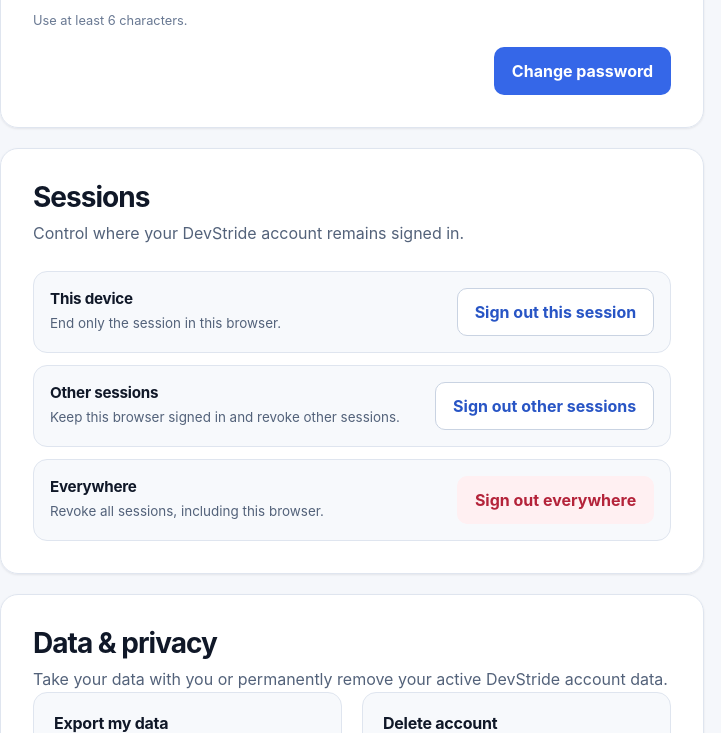
AccountSettings › confirms and signs out other sessions while retaining this one
This screenshot has width=721, height=733.
(page scrolled)
Step 1. Click the button "Sign out other sessions" → (545, 406), box [435,382,654,430]
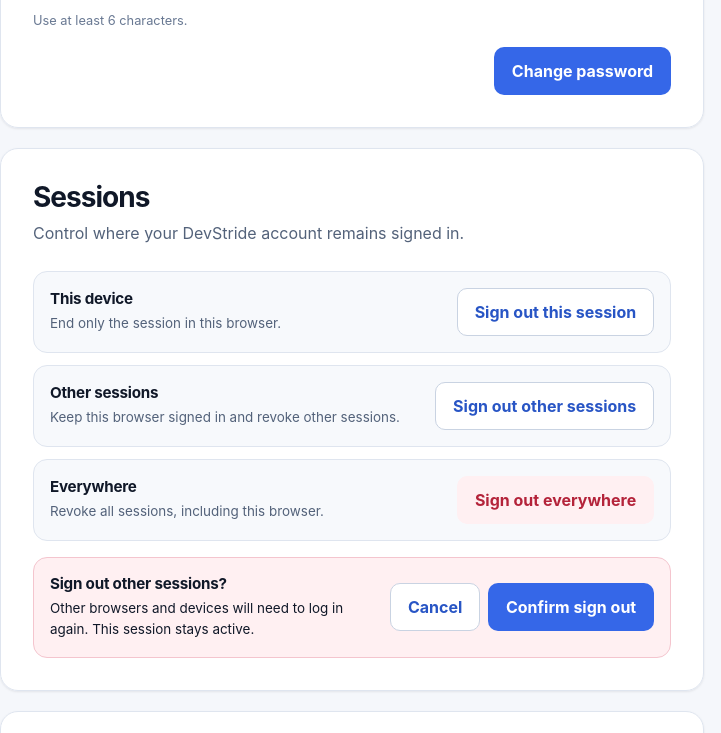
Expected: the text "Other browsers and devices will need to log in again. This session stays active." is shown, [50,598,370,641]
Step 2. Click the button "Confirm sign out" → (571, 607), box [488,583,654,631]
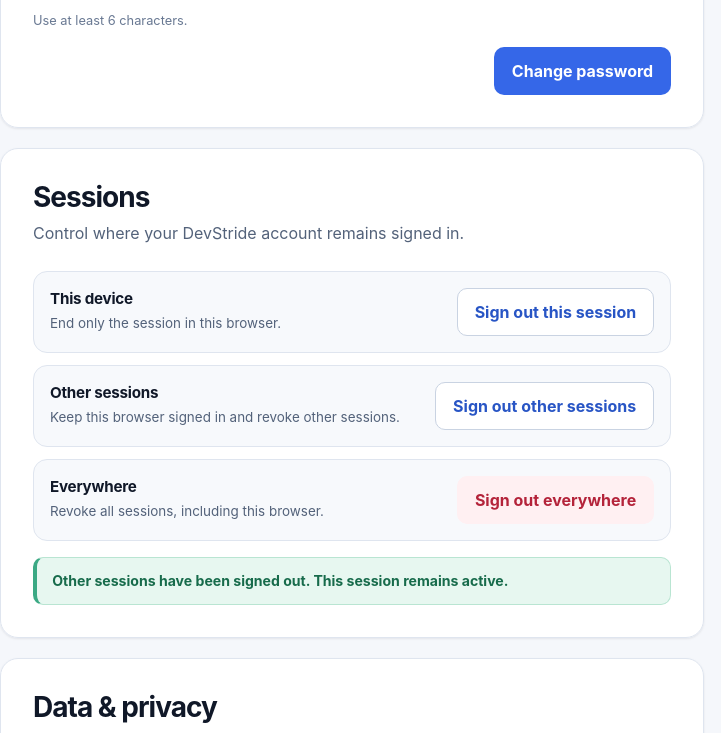
Expected: the message shows "This session remains active", [52,572,508,589]
